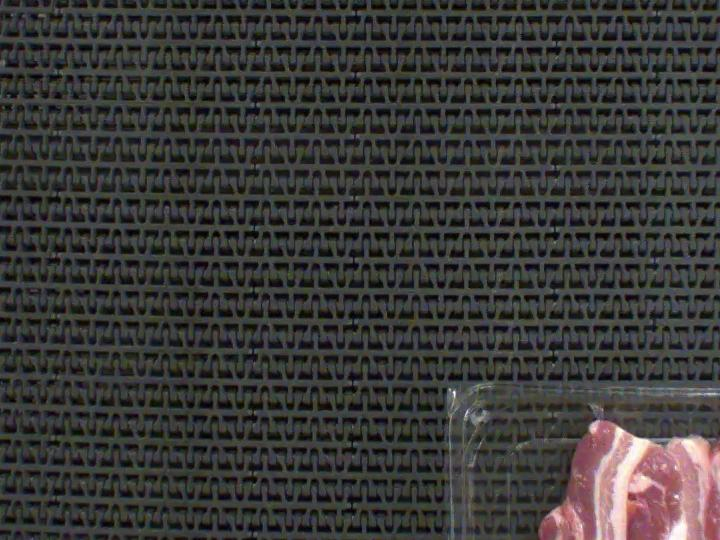packaging-error: (587, 394, 607, 424)
